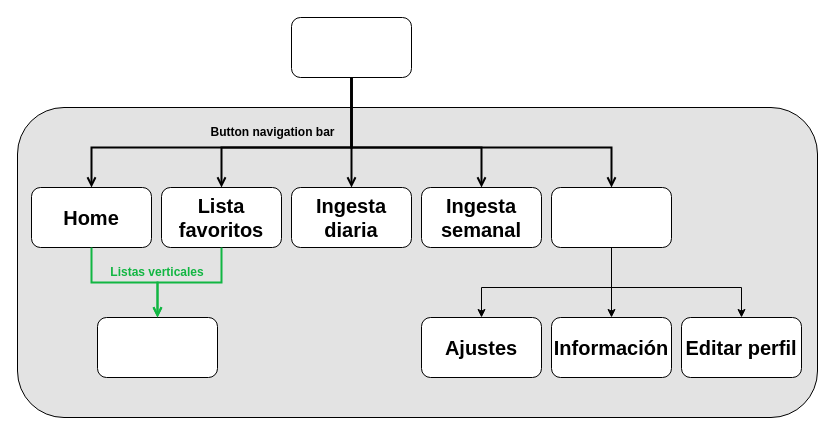
The diagram is 835 pixels wide and 435 high, and some of its shapes have lost their labels. The centre of each missing label's shape, as x and y in pixels:
"Detalles Fruta" belongs at [157,347].
"Login" belongs at [351,47].
"Perfil" belongs at [611,217].
